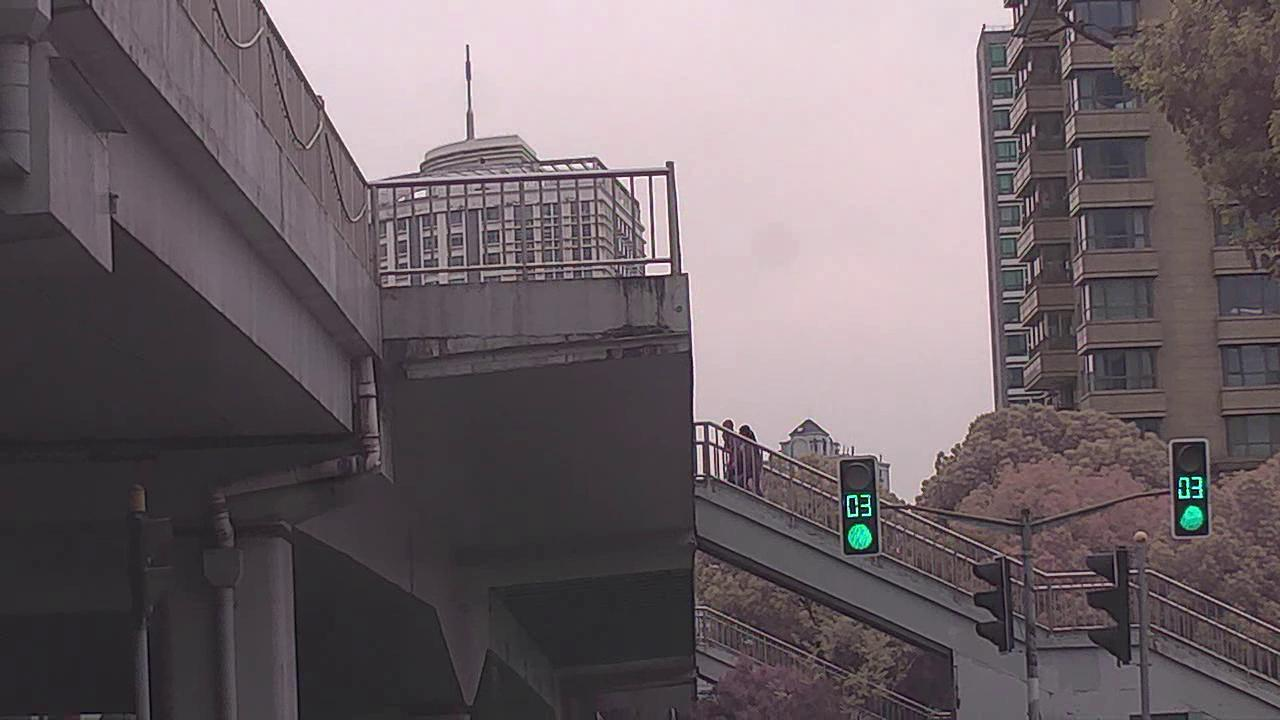traffic_light: (840, 457, 883, 551), (1168, 438, 1209, 535)
